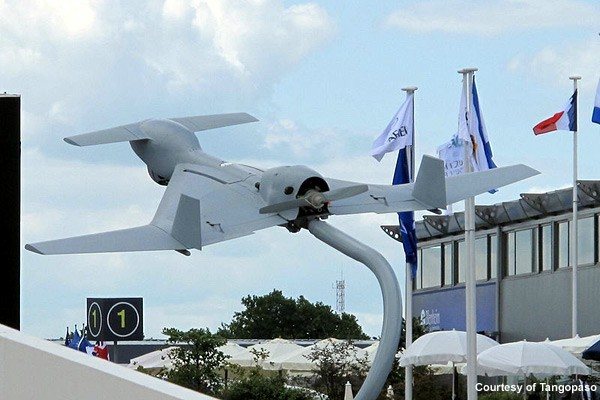maybay_khongnguoilai: (30, 108, 537, 249)
